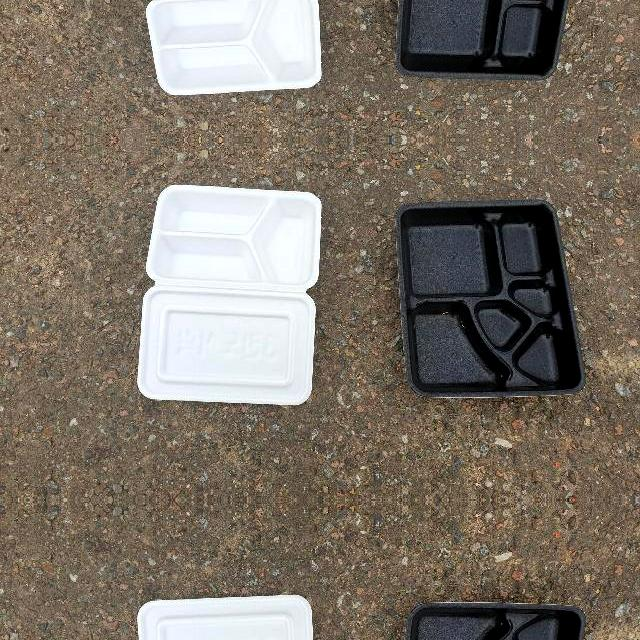Styrofoam: (135, 183, 323, 407), (137, 184, 322, 405), (396, 198, 584, 398), (397, 200, 586, 396), (135, 0, 323, 97), (145, 0, 322, 96), (395, 0, 584, 82), (397, 0, 569, 80), (135, 593, 323, 640)
